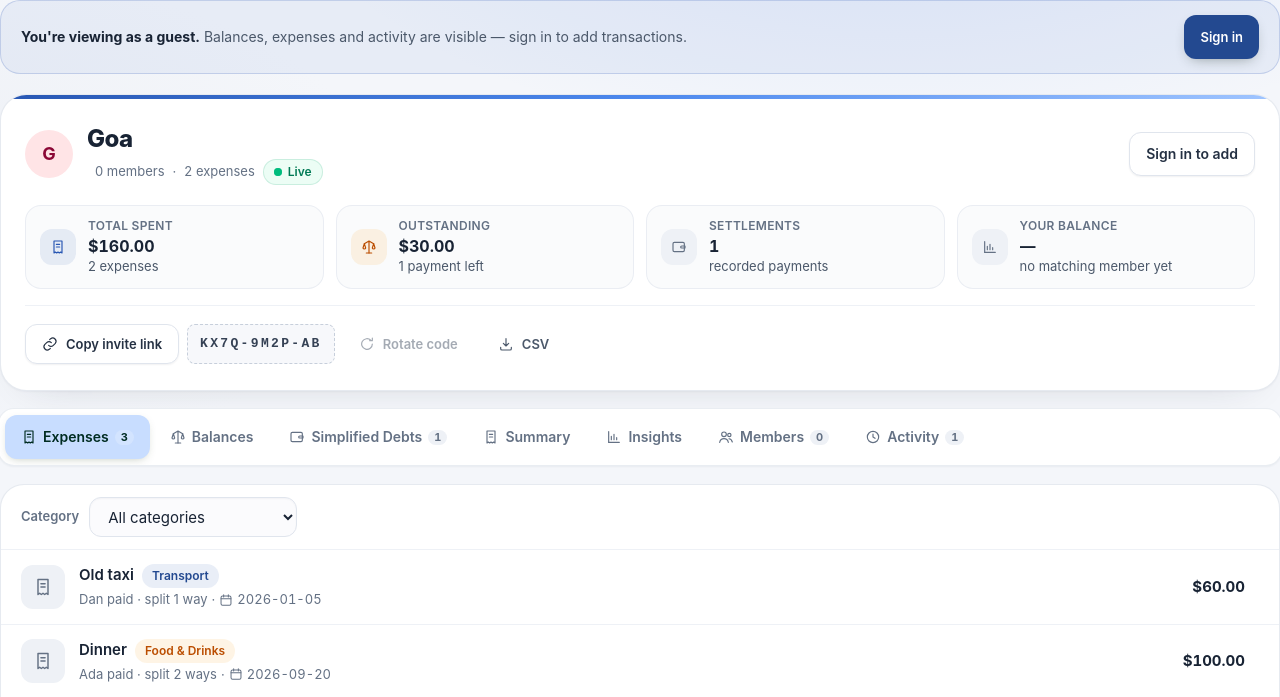
Test case: GroupPage as guest › renders redacted member rows for guests without emails
Click the tab "Members 0" at (774, 438), box [702,416,845,460]
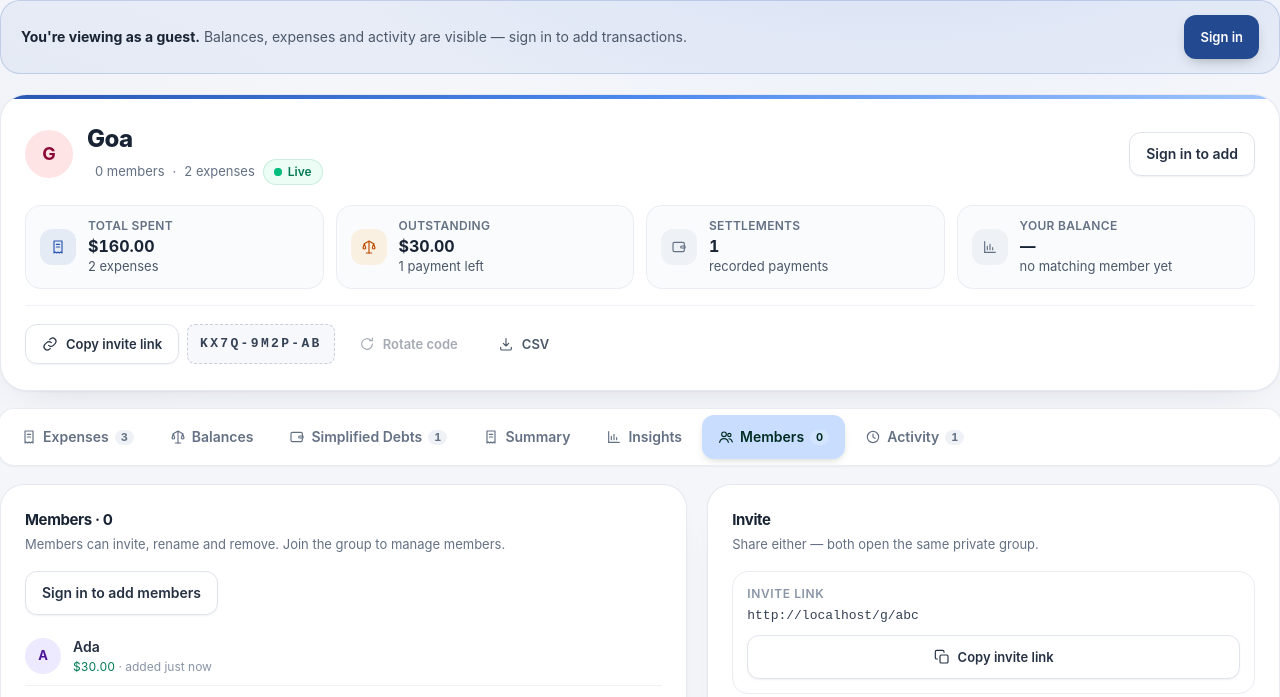
Expected: the text "Ada" is shown, [73,637,100,657]
Click the tab "Balances" at (212, 438), box [154,416,270,460]
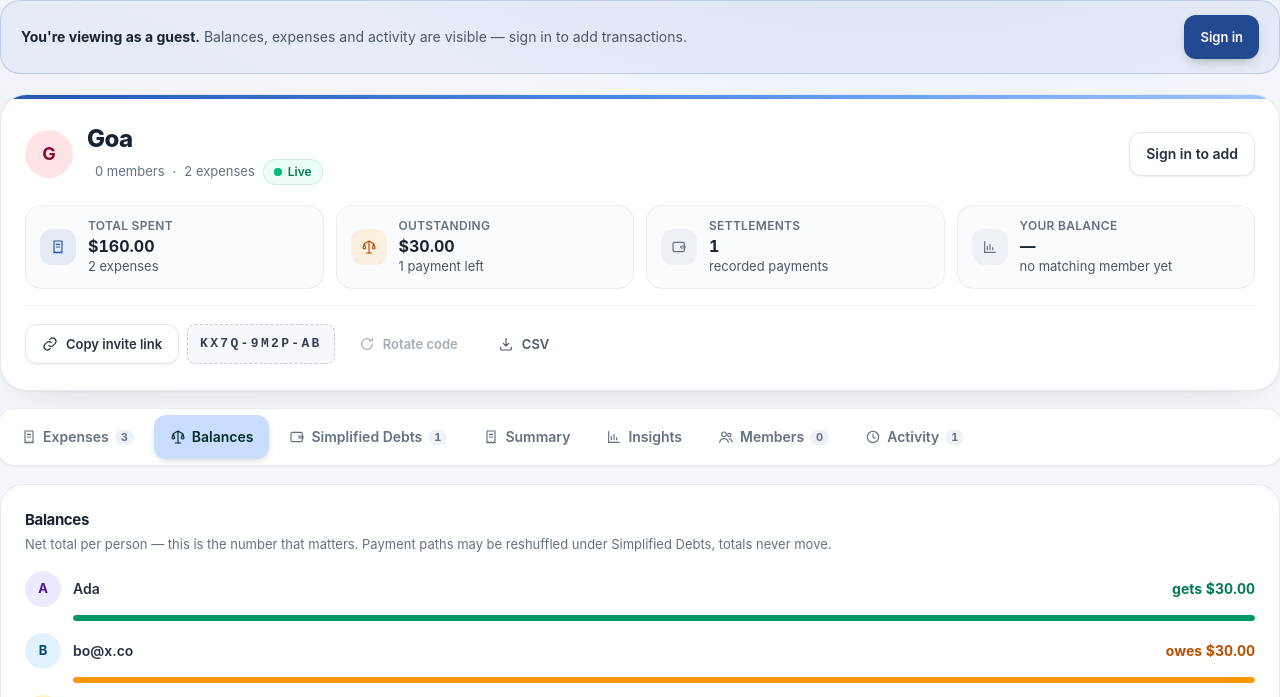
Now the text "gets $30.00" is shown, box [1172,579,1255,599]
Click the tab "Members 0" at (774, 438), box [702,416,845,460]
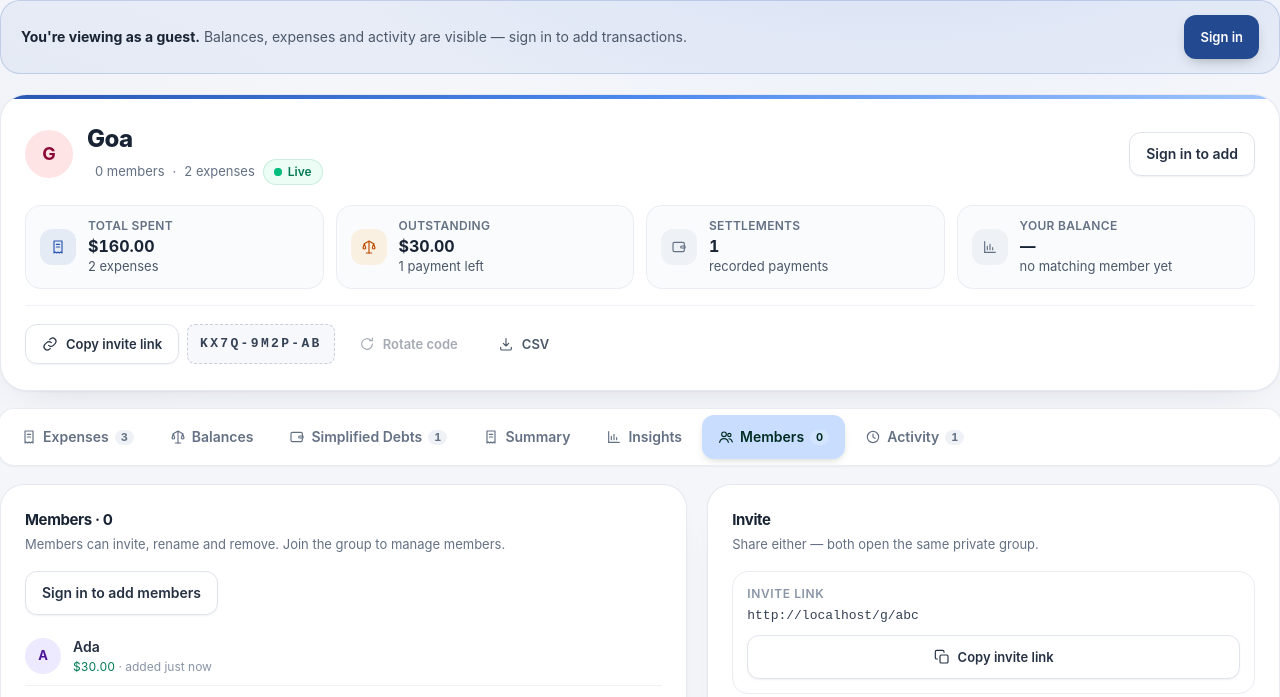
Now the button "Sign in to add members" is shown, box [25,571,218,615]
